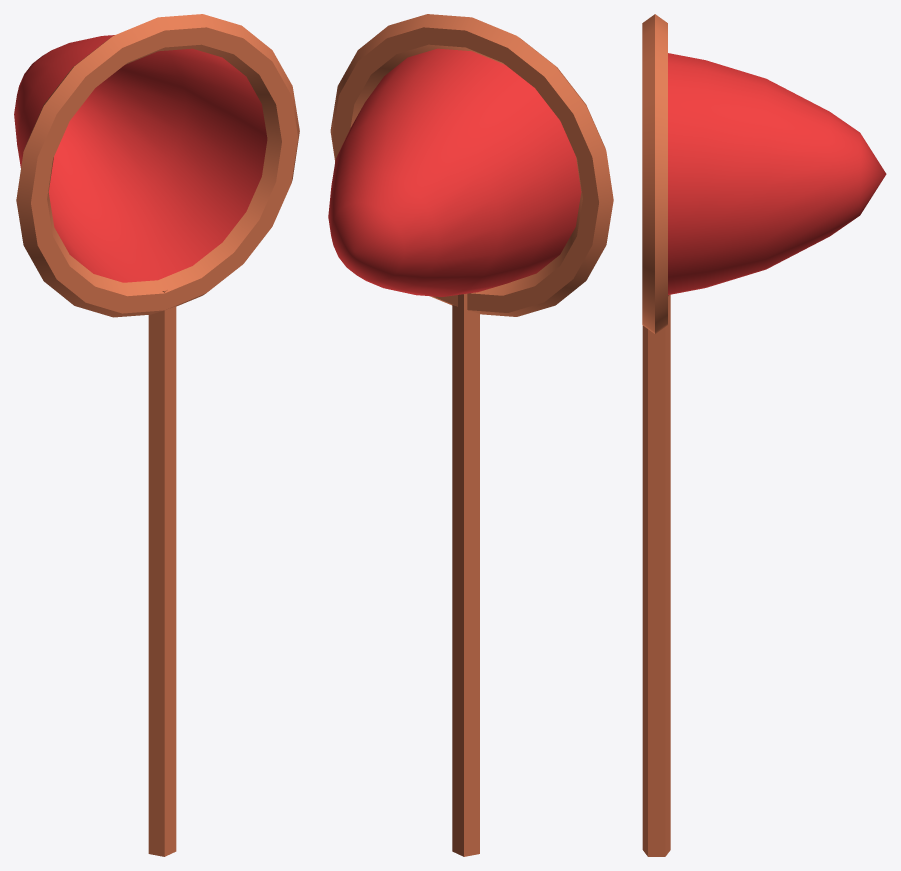
Rendered from AtrapaPatos.FBX.
The picture shows the model from 3 angles, left to right: view 1: azimuth 30°, elevation 25°; view 2: azimuth 150°, elevation 25°; view 3: azimuth 270°, elevation 25°; orthographic projection.
Parts seen in each view (by area): view 1: Circle001; view 2: Circle001; view 3: Circle001.
Boxes of the visible parts, x1,y1,x2,y2 form: Circle001: (14, 14, 299, 856); Circle001: (328, 14, 613, 856); Circle001: (642, 14, 886, 856).
Bounding box in the file's own units: 114 × 321 × 85.98.
